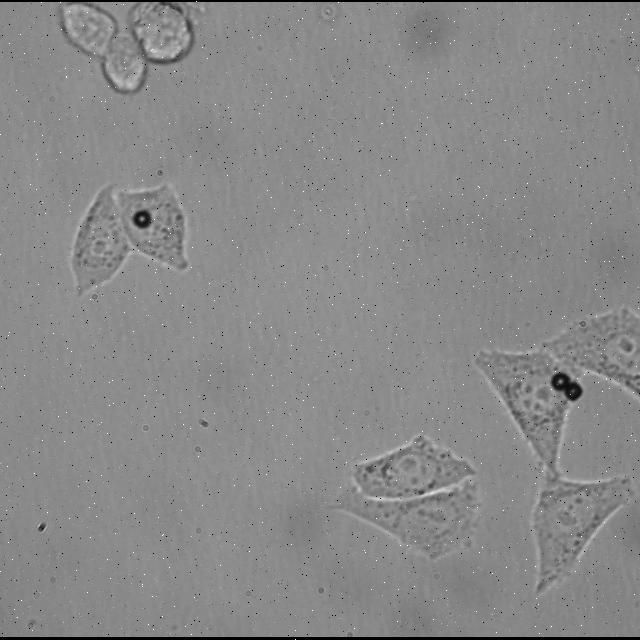microbeads: (546, 369, 570, 396), (562, 380, 586, 404), (132, 212, 152, 230)
